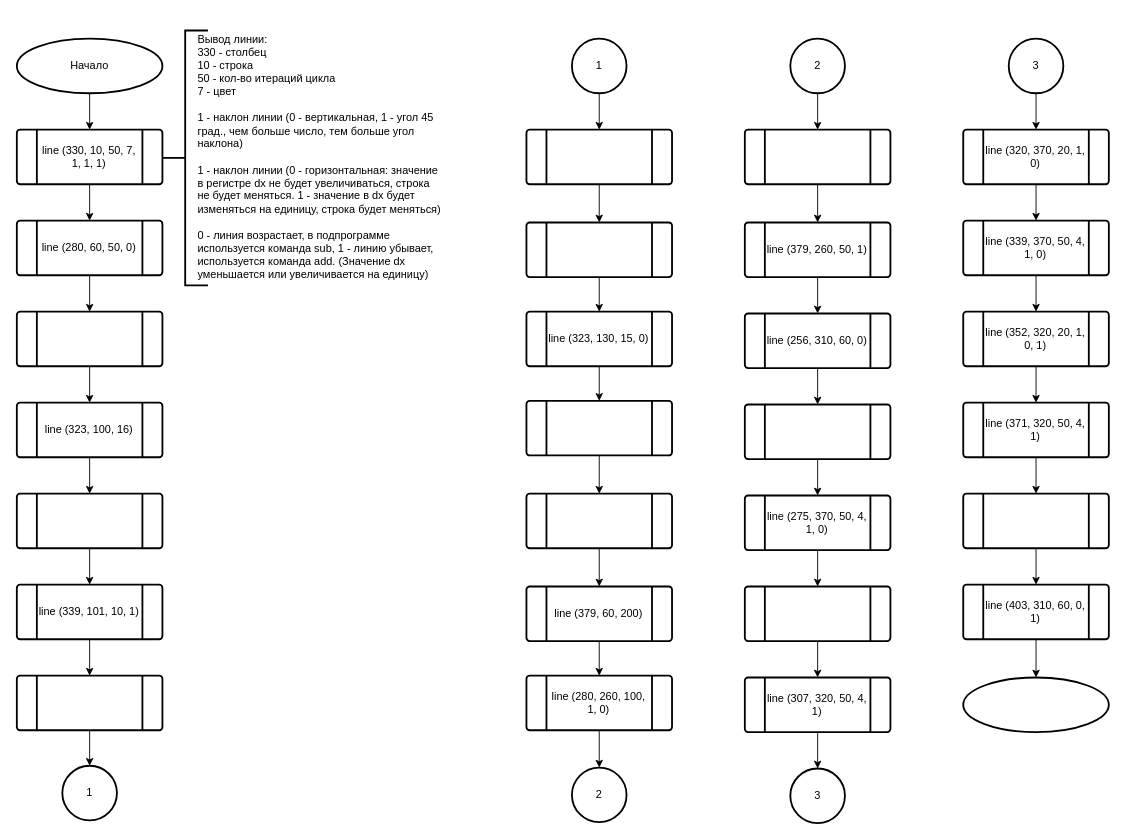
Some shapes in this 1125 by 839 pixel diagram are drawn without their labels. Each missing label, with the box of its shape:
line (256, 310, 50, 2, 1, 0): (743, 128, 891, 185)
line (256, 370, 20, 1, 0): (743, 403, 891, 460)
line (280, 60, 100, 0, 1): (15, 310, 163, 367)
line (280, 60, 200, 0, 1): (525, 492, 672, 549)
line (288, 320, 20, 1, 0, 1): (743, 585, 891, 642)
line (313, 110, 10, 0): (15, 674, 163, 731)
line (313, 110, 10, 1, 0): (15, 492, 163, 549)
line (313, 120, 10, 1): (525, 221, 672, 278)
line (338, 130, 10, 1, 0): (525, 399, 672, 456)
line (348, 111, 10): (525, 128, 672, 185)
line (384, 370, 20, 1, 0): (962, 492, 1109, 549)
Конец: (962, 676, 1109, 733)
